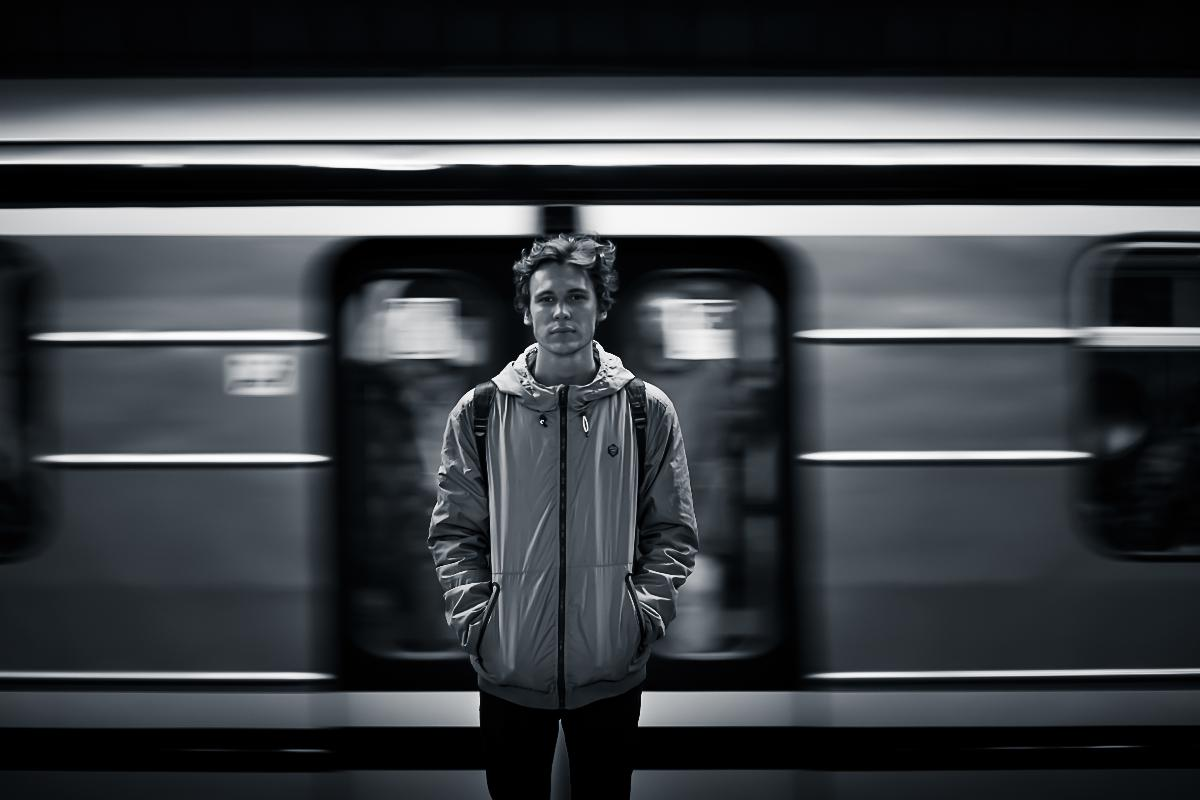Person: (427, 242, 699, 800)
